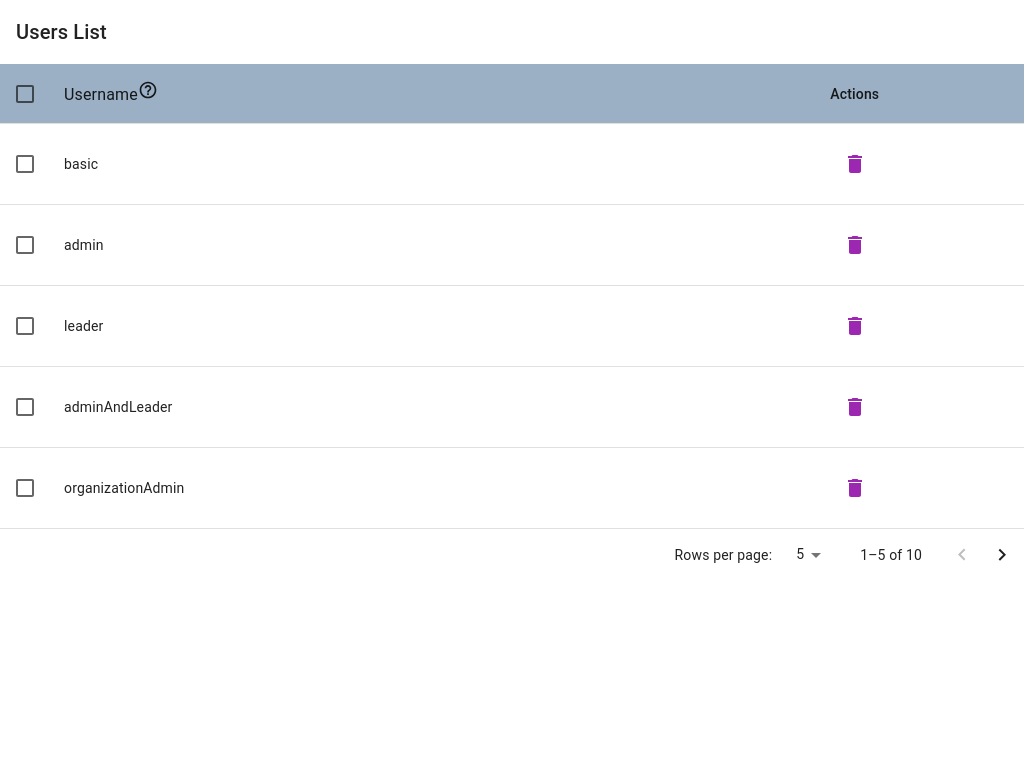
Test: ManageUsersTable › UsersTable checkbox logic › should show user is checked after it is selected
Click the element named "row-1-checkbox": coordinates (25, 164) [13,152,37,176]
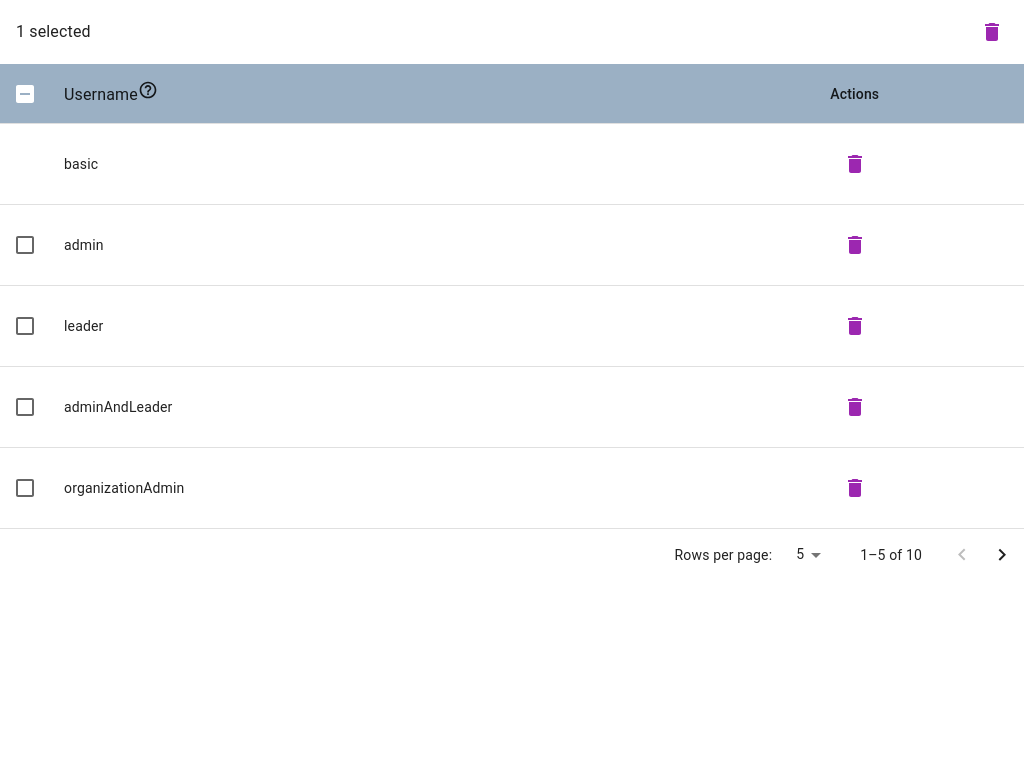
Result: the text named "number selected" reads "1 selected" at [16,22,91,41]
